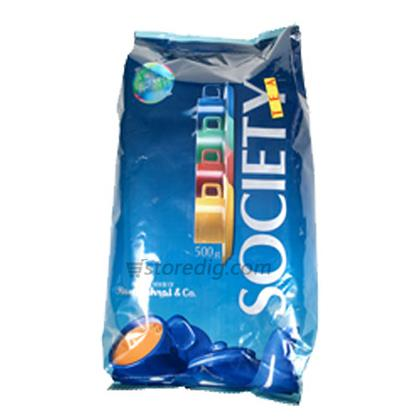society: (117, 43, 319, 405)
